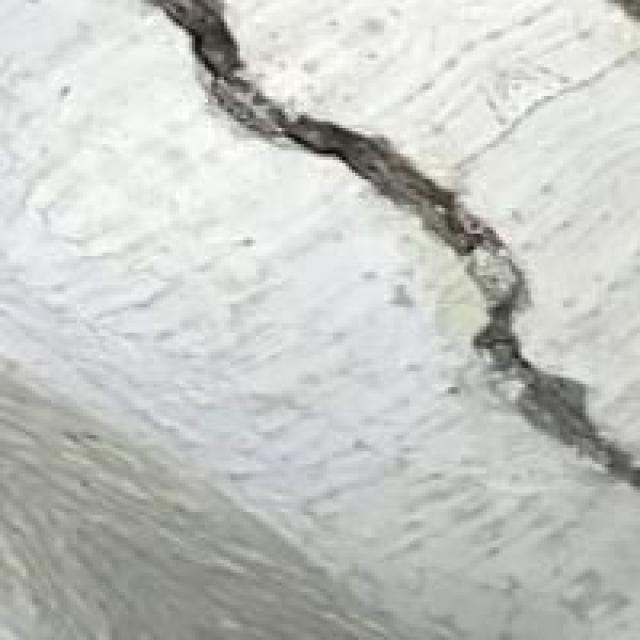crack: (112, 0, 637, 531)
